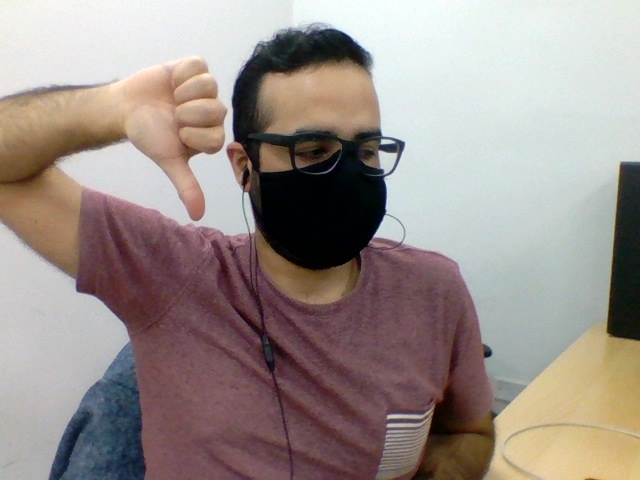ThumbsDown: (117, 55, 227, 221)
